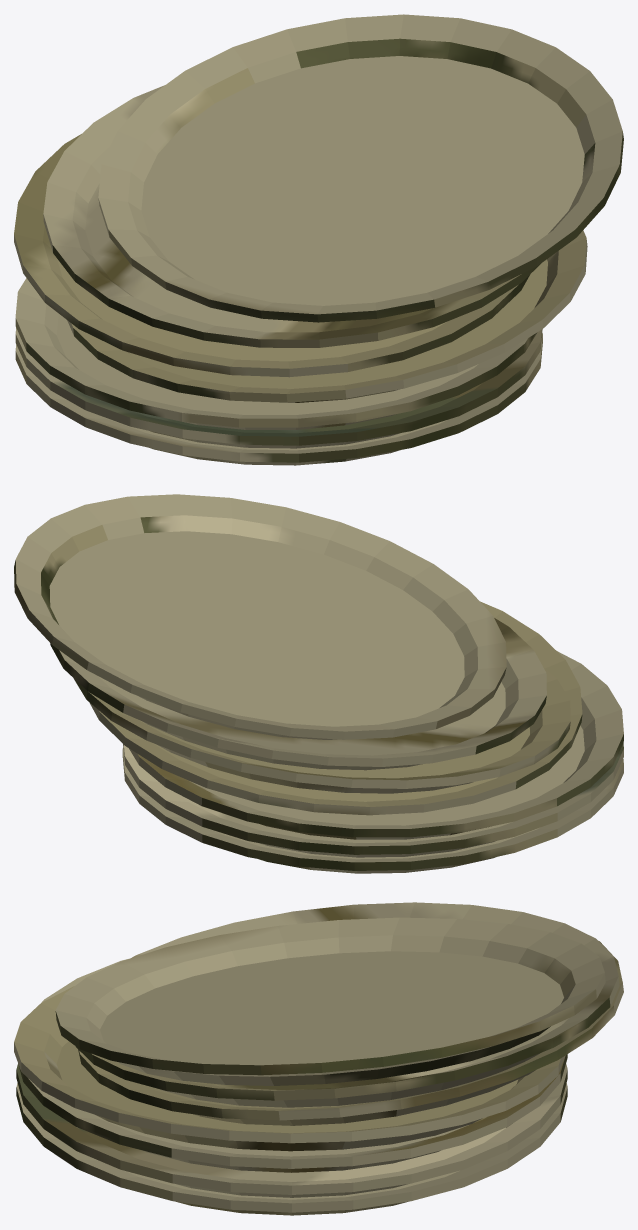
The model's file is SM_plates.fbx.
3 views of the same model, one above another, from view 1: azimuth 30°, elevation 25°; view 2: azimuth 150°, elevation 25°; view 3: azimuth 270°, elevation 25° (orthographic). The views are drawn at different scales.
Parts seen in each view (by area): view 1: SM_plate.001; view 2: SM_plate.001; view 3: SM_plate.001.
Part boxes in pixels (x1,y1,x2,y2): SM_plate.001: [14, 14, 623, 465]; SM_plate.001: [14, 494, 623, 873]; SM_plate.001: [14, 902, 623, 1215].
Bounding box in the file's own units: 27.38 × 10.14 × 24.98.
